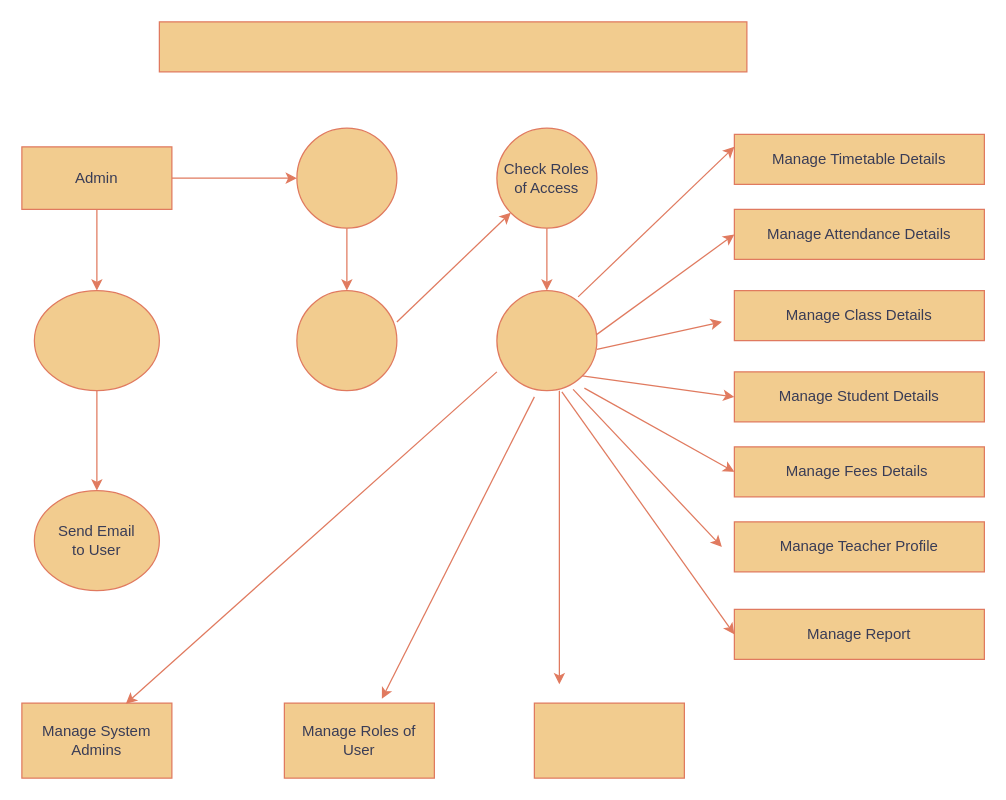
The diagram is 1006 pixels wide and 800 high, and some of its shapes have lost their labels. Each missing label, with the centre of its shape:
Cjeck Credentials: (346,340)
Forgot password: (96,340)
Login to System: (346,177)
Manage Modules: (546,340)
Manage User Permission: (608,740)
Student Information System: (452,46)
